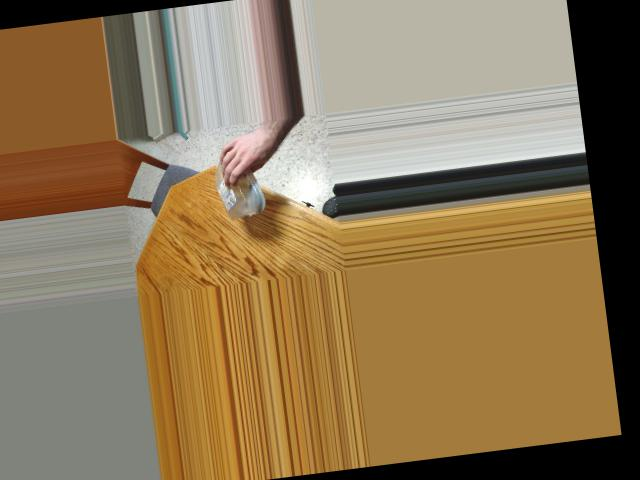cheese: (212, 143, 266, 202)
